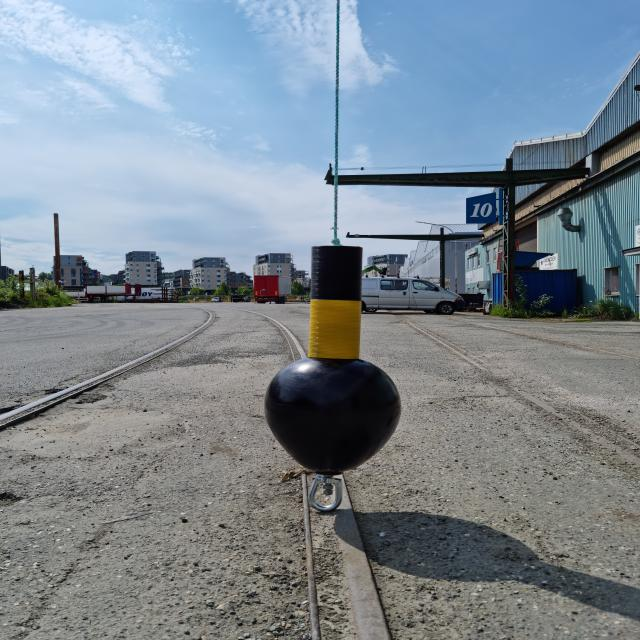east: (264, 246, 402, 473)
